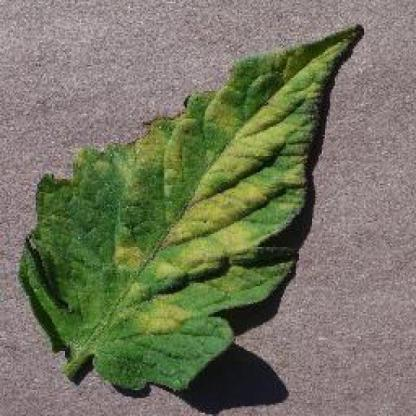Tomato_Leaf_Mold: (36, 25, 364, 386)
